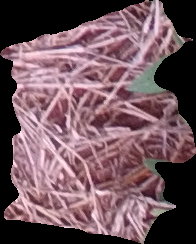soil: (1, 2, 196, 242)
